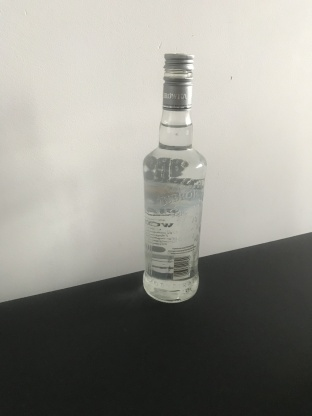nakretka: (161, 50, 195, 111)
